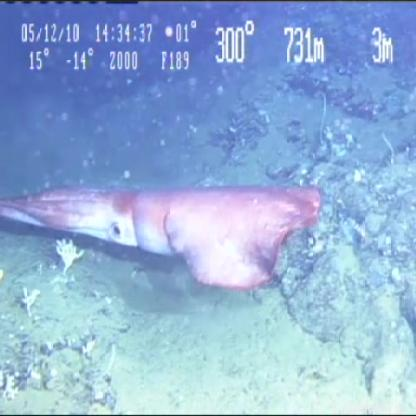Bio: (1, 180, 325, 300), (51, 236, 85, 276)
